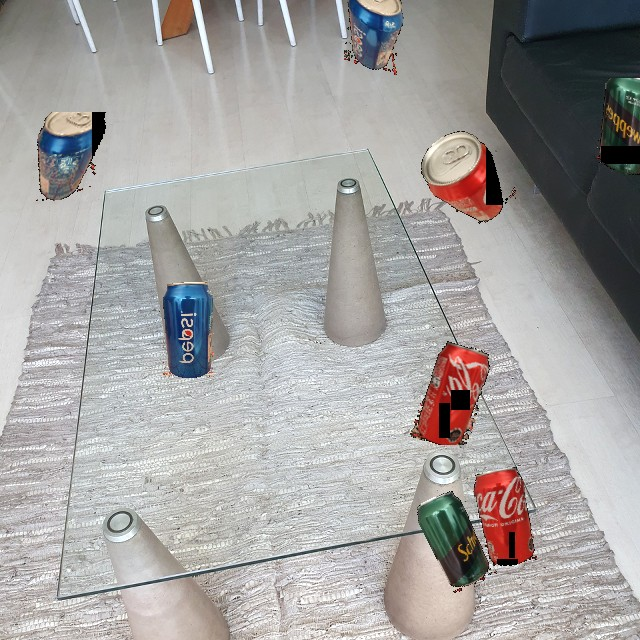coca cola: (411, 124, 516, 227), (410, 340, 493, 445), (472, 466, 538, 569)
pepsi: (36, 112, 111, 201), (163, 282, 214, 378), (344, 0, 406, 75)
schweppes: (412, 487, 498, 594), (597, 78, 640, 178)
